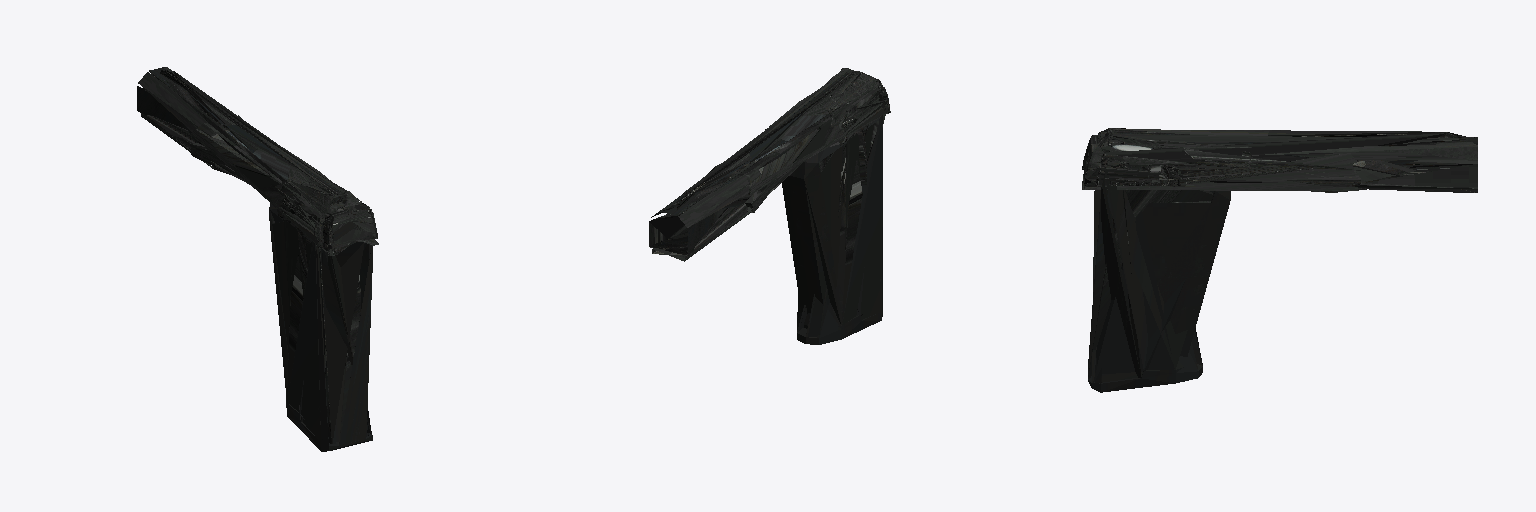
The picture shows the model from 3 angles: view 1: azimuth 30°, elevation 25°; view 2: azimuth 150°, elevation 25°; view 3: azimuth 270°, elevation 25°; orthographic projection.
Parts seen in each view (by area): view 1: slide, frame, mag; view 2: slide, frame, mag; view 3: slide, frame, mag.
Part boxes in pixels (left/top/right/bottom): slide: left=137, top=67, right=378, bottom=451; frame: left=141, top=113, right=378, bottom=444; mag: left=269, top=207, right=372, bottom=450; slide: left=649, top=69, right=890, bottom=344; frame: left=653, top=68, right=890, bottom=337; mag: left=782, top=162, right=881, bottom=344; slide: left=1084, top=128, right=1477, bottom=392; frame: left=1082, top=128, right=1477, bottom=383; mag: left=1088, top=191, right=1230, bottom=392.
Size of the model in its own units: 18.35 by 74.6 by 108.
Materials: 1 (1 with a texture image).